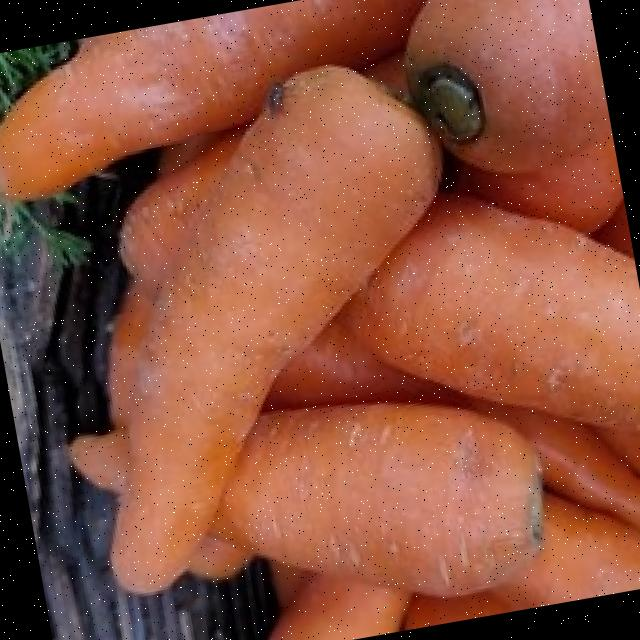carrot: (70, 67, 439, 590), (0, 0, 426, 196), (346, 198, 640, 432), (212, 403, 539, 595), (406, 0, 623, 230), (407, 0, 623, 229)
